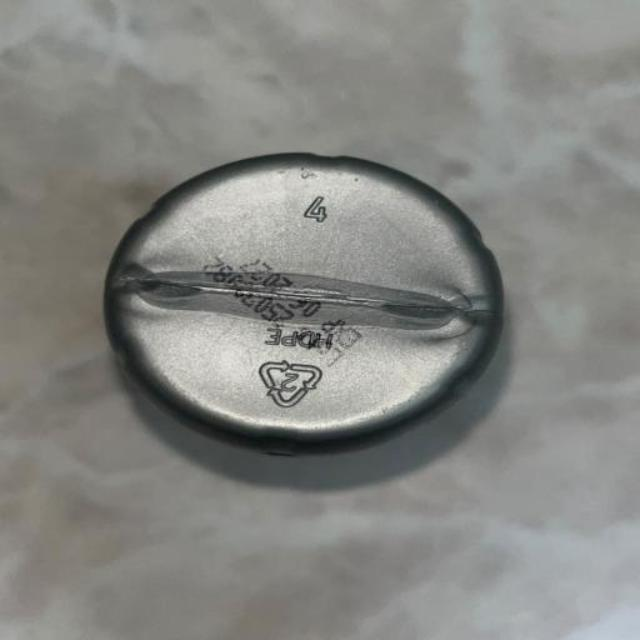HDPE: (70, 120, 508, 554)
